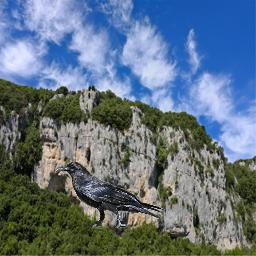Crow: (55, 161, 168, 230)
